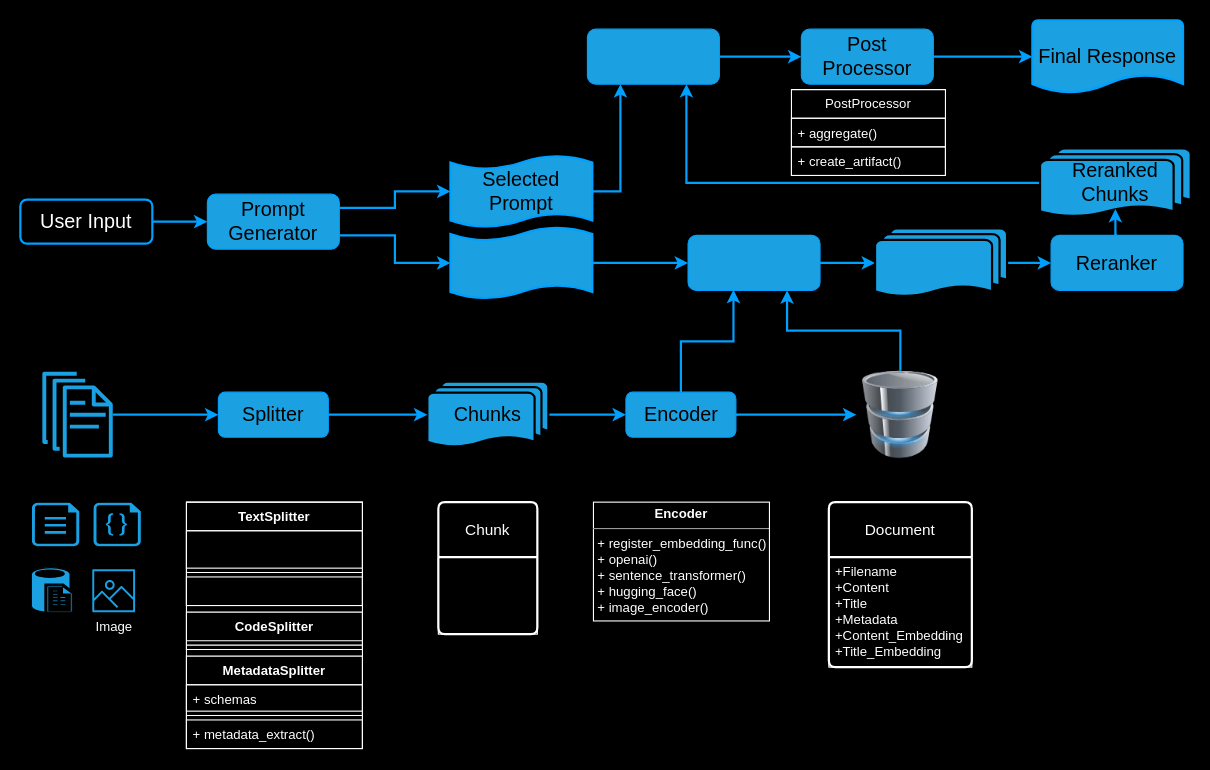
This 1210x770 diagram has some shape labels left out. Here are the shapes that lost their labels. From the top down, the centre of each, then its label:
the point at 652,56: LLM Caller
the point at 521,262: Refined Query
the point at 753,262: Retriver
the point at 940,262: Retrieved Chunks
the point at 77,414: Documents
the point at 900,414: Vector Database
the point at 55,524: Text
the point at 116,524: Code
the point at 273,549: + chunk_size: int + overlap: int
the point at 51,589: Metadata
the point at 273,591: + split(string): list[string]
the point at 487,595: +Filename +Content +Title +Metadata
